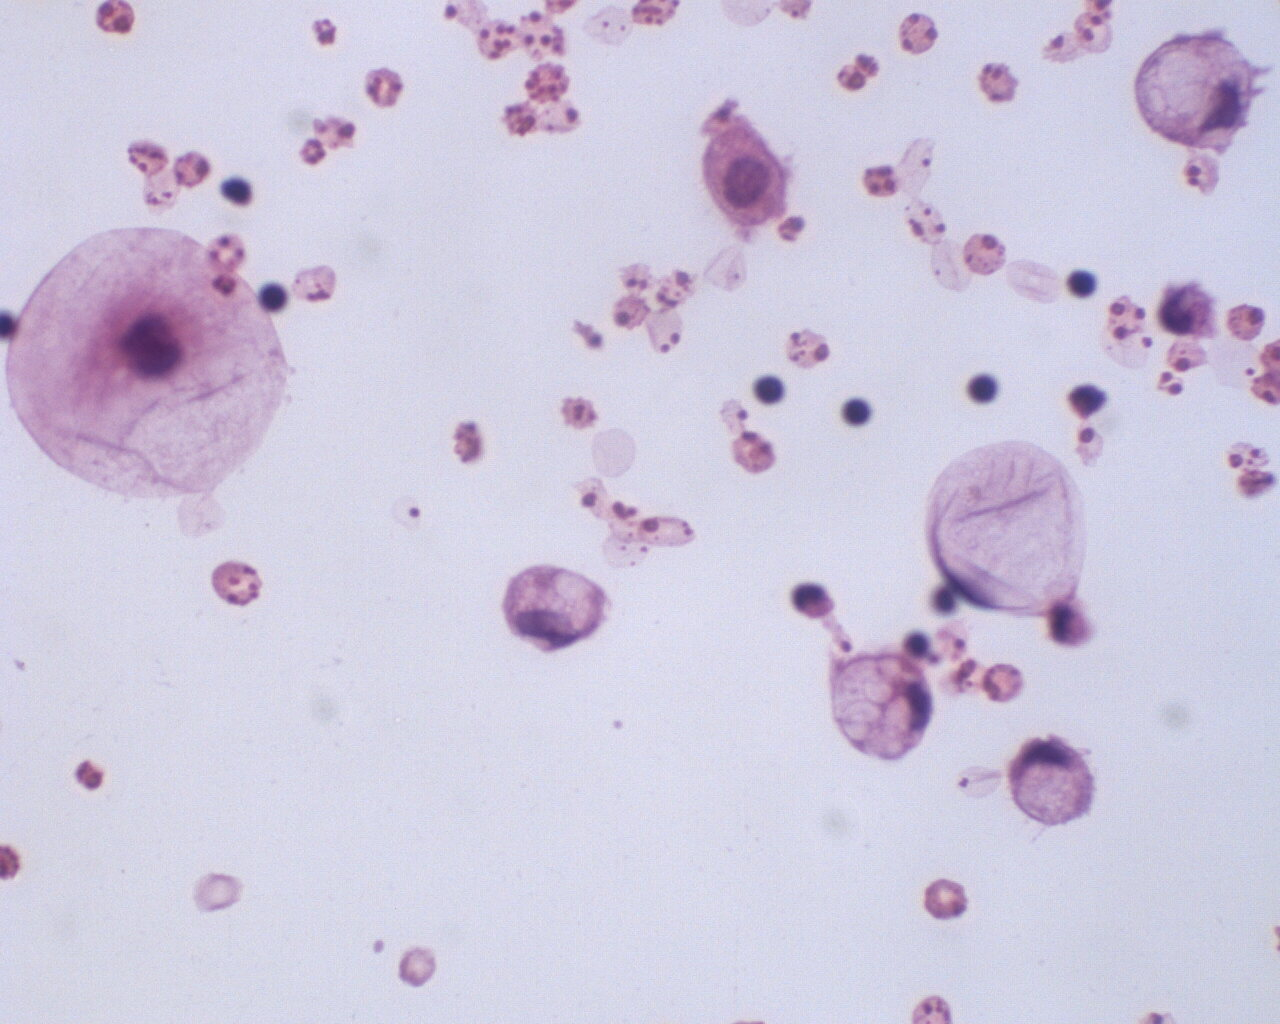histo: (10, 222, 293, 508), (923, 439, 1091, 615), (1128, 28, 1263, 152), (825, 649, 936, 763), (505, 556, 609, 656), (1008, 737, 1103, 829)
lymph: (961, 362, 997, 408), (257, 277, 293, 318), (748, 368, 784, 409), (1064, 266, 1101, 299), (839, 395, 872, 430)
meso: (700, 121, 791, 227)
